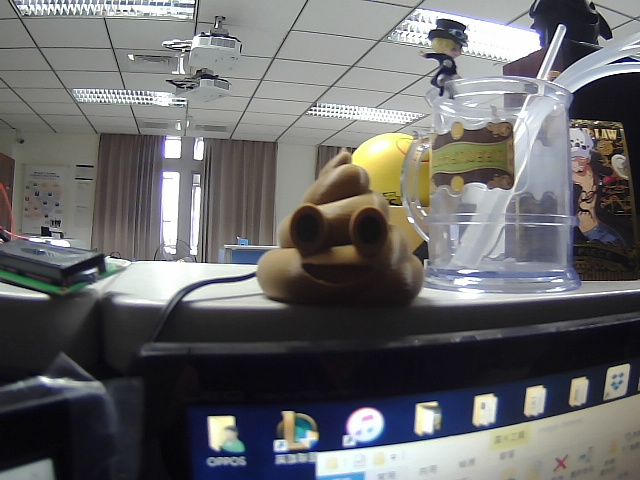shit: (246, 144, 426, 310)
